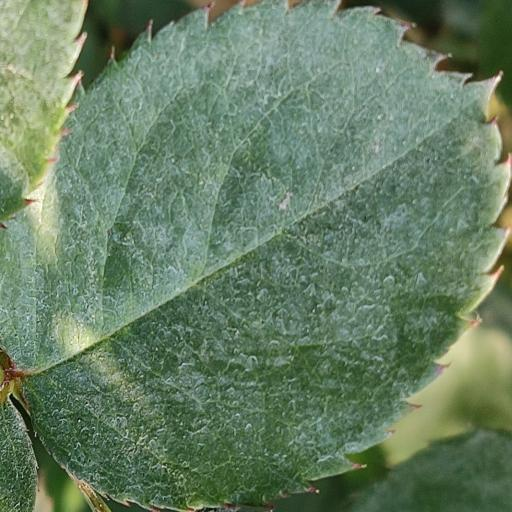healthy_leaf: (0, 0, 510, 509), (0, 0, 86, 221)
